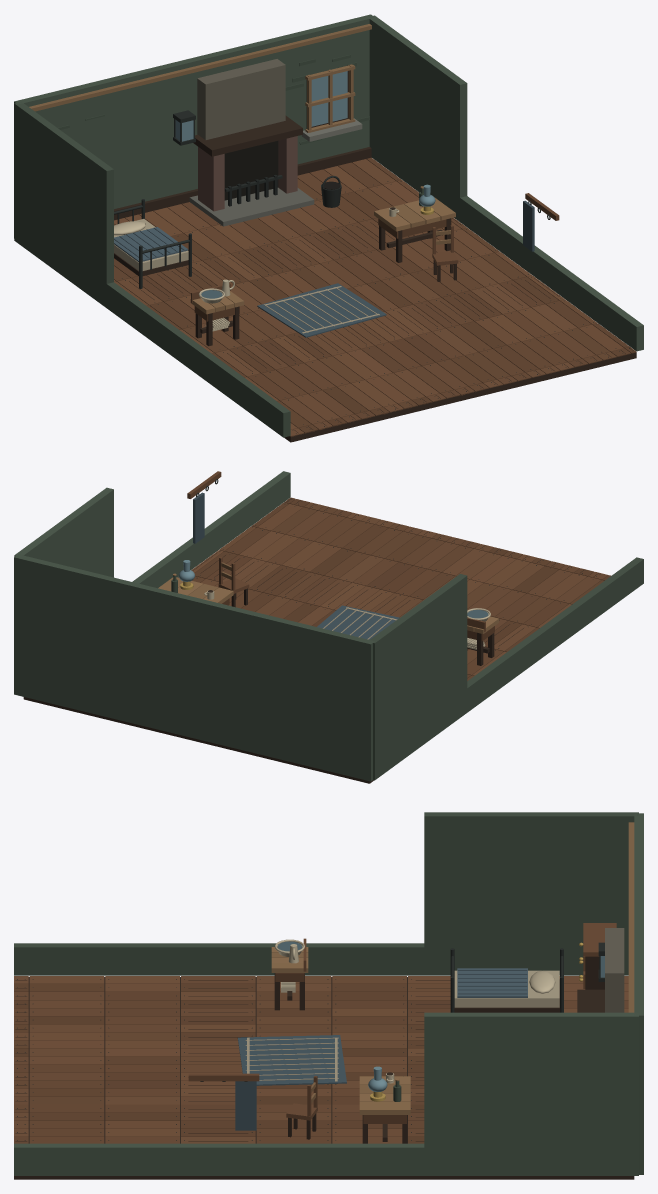
File: vale-room.glb
3 views of the same model, one above another, from view 1: azimuth 30°, elevation 25°; view 2: azimuth 150°, elevation 25°; view 3: azimuth 270°, elevation 25° (orthographic). The views are drawn at different scales.
Visible parts, largest first — view 1: vale-room-wood, vale-room-green, vale-room-woodDark, vale-room-woodLight, vale-room-plaster, vale-room-blue, vale-room-iron, vale-room-stone, vale-room-linen, vale-room-brick, vale-room-black, vale-room-glass; view 2: vale-room-green, vale-room-wood, vale-room-woodDark, vale-room-blue, vale-room-woodLight, vale-room-linen; view 3: vale-room-green, vale-room-wood, vale-room-woodDark, vale-room-blue, vale-room-linen, vale-room-woodLight, vale-room-plaster, vale-room-iron, vale-room-glass.
Part boxes in pixels (box(x1,y1,x2,y2)): vale-room-wood: box(114, 157, 636, 436); vale-room-green: box(14, 14, 643, 437); vale-room-woodDark: box(114, 70, 636, 442); vale-room-woodLight: box(29, 24, 455, 314); vale-room-plaster: box(197, 59, 285, 140); vale-room-blue: box(114, 200, 534, 337); vale-room-iron: box(114, 110, 632, 433); vale-room-stone: box(189, 118, 362, 226); vale-room-linen: box(114, 208, 399, 333); vale-room-brick: box(198, 136, 297, 211); vale-room-black: box(224, 141, 340, 200); vale-room-glass: box(175, 71, 435, 298); vale-room-green: box(14, 471, 643, 781); vale-room-wood: box(187, 471, 610, 680); vale-room-woodDark: box(23, 498, 598, 783); vale-room-blue: box(193, 492, 399, 639); vale-room-woodLight: box(158, 562, 498, 633); vale-room-linen: box(204, 590, 490, 649); vale-room-green: box(14, 812, 643, 1175); vale-room-wood: box(14, 923, 628, 1143); vale-room-woodDark: box(14, 956, 634, 1179); vale-room-blue: box(235, 968, 527, 1130); vale-room-linen: box(245, 939, 559, 1083); vale-room-woodLight: box(271, 822, 634, 1114); vale-room-plaster: box(605, 928, 624, 1012); vale-room-iron: box(17, 942, 604, 1140); vale-room-glass: box(277, 941, 604, 1091).
Size of the model in its own units: 9.9 by 3.77 by 12.9.
